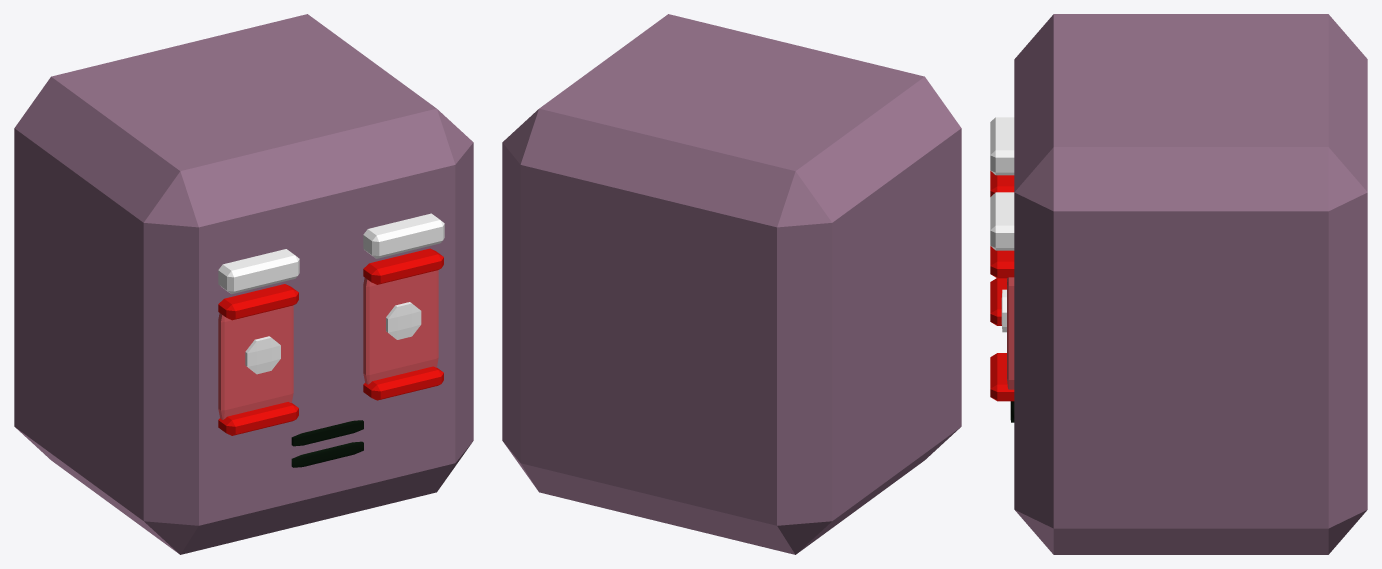
The model's file is natt.glb.
3 renders of one model, left to right at view 1: azimuth 30°, elevation 25°; view 2: azimuth 150°, elevation 25°; view 3: azimuth 270°, elevation 25°, orthographic. The views are drawn at different scales.
Parts seen in each view (by area): view 1: head, Cube.002, EyeBrown, lip_up, lip_up.001, eye, eyes, mouth', mouth; view 2: head; view 3: head, EyeBrown, lip_up.001, lip_up, Cube.002.
Part boxes in pixels (left/top/right/bottom): head: left=14, top=14, right=473, bottom=554; Cube.002: left=218, top=270, right=438, bottom=419; EyeBrown: left=218, top=213, right=444, bottom=294; lip_up: left=218, top=248, right=443, bottom=320; lip_up.001: left=218, top=366, right=443, bottom=435; eye: left=386, top=302, right=421, bottom=339; eyes: left=245, top=336, right=280, bottom=374; mouth': left=291, top=441, right=363, bottom=467; mouth: left=291, top=420, right=363, bottom=446; head: left=502, top=14, right=961, bottom=554; head: left=1014, top=14, right=1367, bottom=554; EyeBrown: left=990, top=117, right=1014, bottom=250; lip_up.001: left=990, top=278, right=1014, bottom=401; lip_up: left=990, top=171, right=1014, bottom=278; Cube.002: left=1007, top=277, right=1014, bottom=389.
Bounding box in the file's own units: 0.7804 × 0.8675 × 0.7278.
